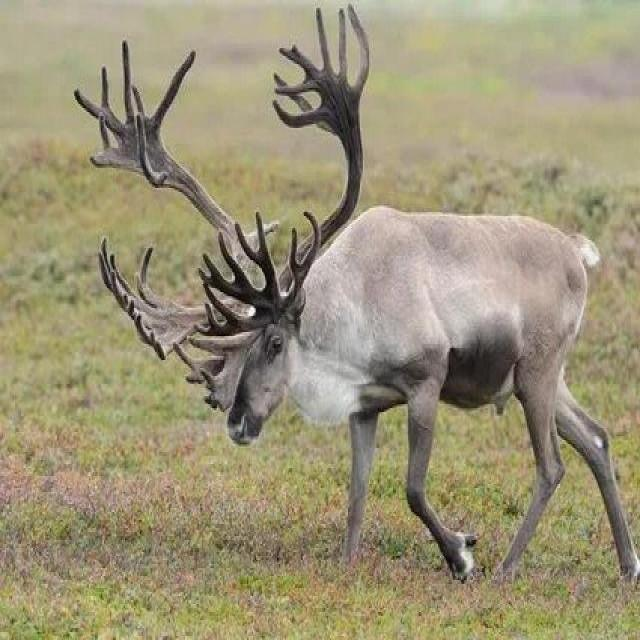deer: (101, 5, 639, 635)
